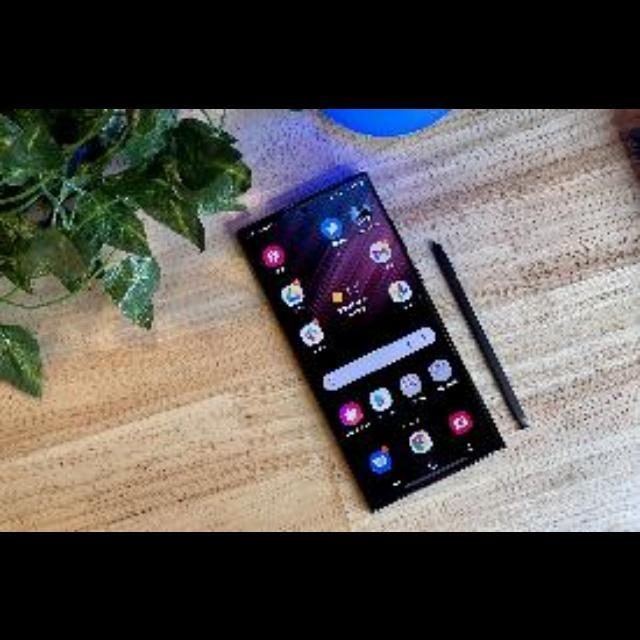PhoneUse: (234, 170, 506, 512)
